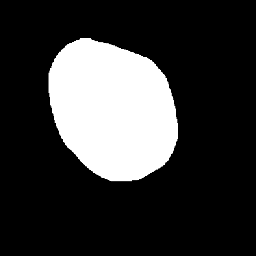mass: (48, 35, 171, 180)
